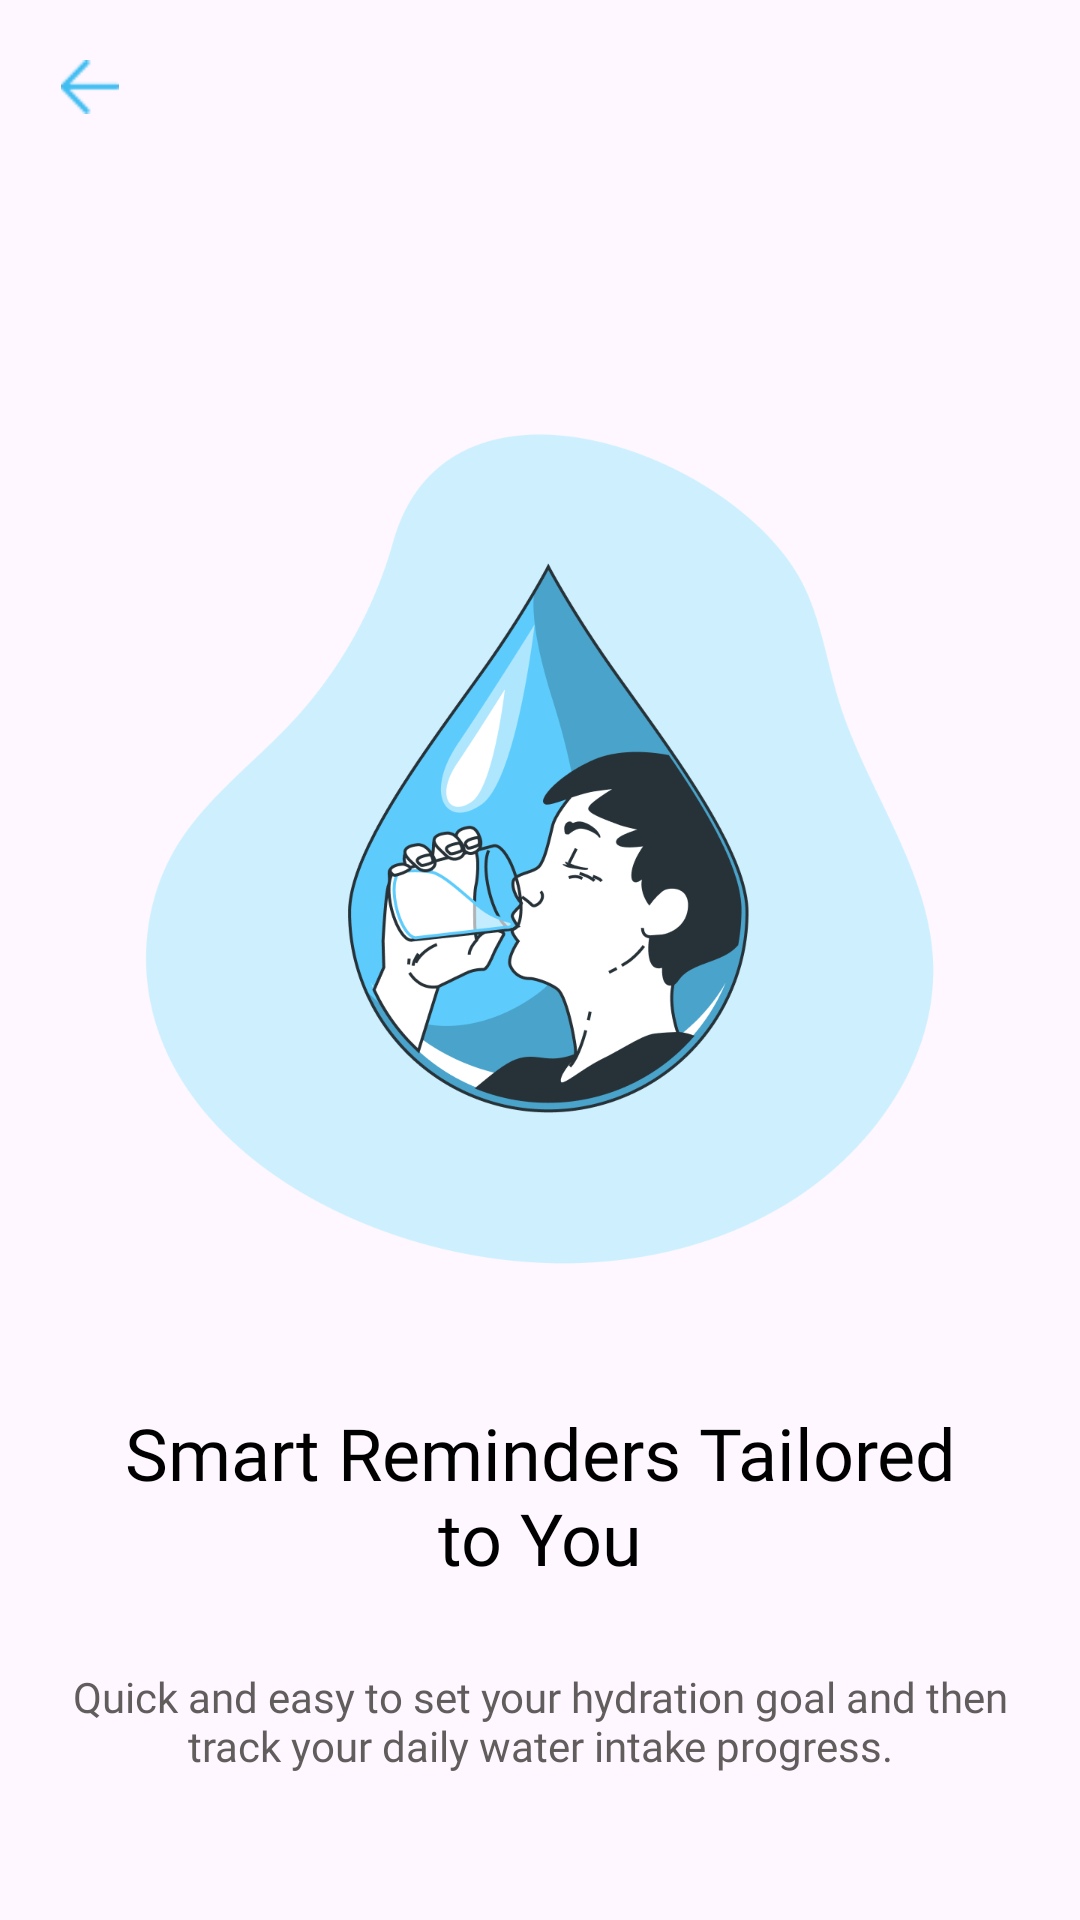

Where icons sit on this 1080px x 1920px app screen, as (x1, y1, x2, y2):
back: (61, 60, 119, 114)
